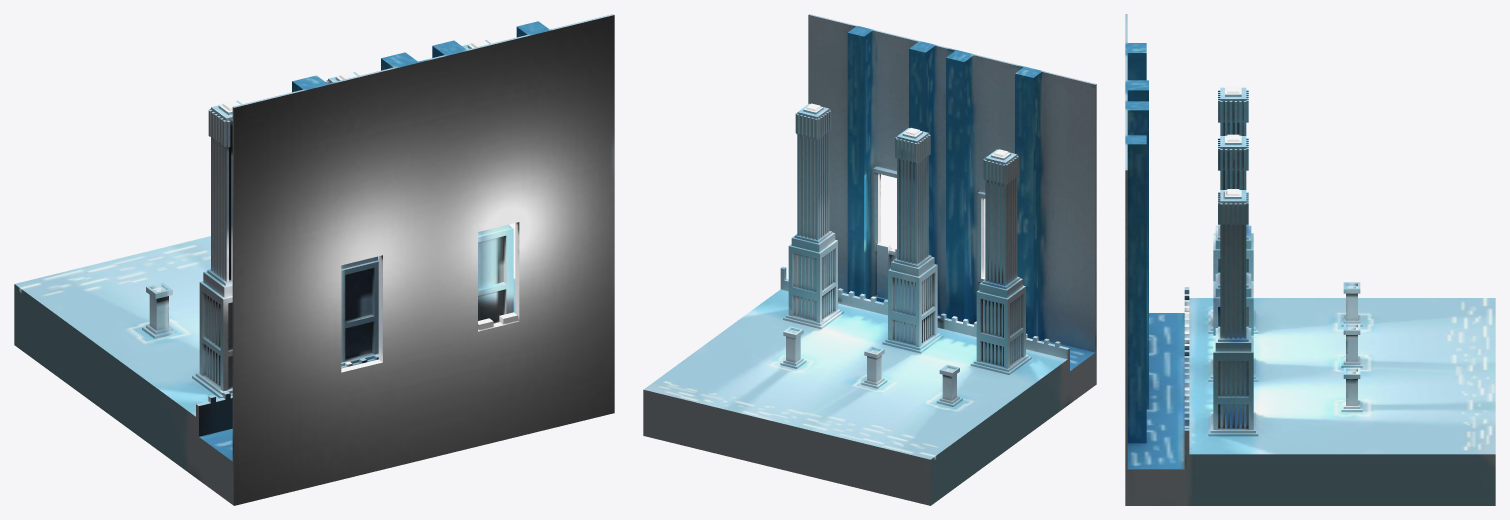
File: show_more_nfts_com.glb
The picture shows the model from 3 angles, left to right: view 1: azimuth 30°, elevation 25°; view 2: azimuth 150°, elevation 25°; view 3: azimuth 270°, elevation 25°; orthographic projection. The views are drawn at different scales.
Visible parts, largest first — view 1: more_nfts_voxel_final-7; view 2: more_nfts_voxel_final-7; view 3: more_nfts_voxel_final-7.
Part boxes in pixels (x1,y1,x2,y2): more_nfts_voxel_final-7: (14,14,614,505); more_nfts_voxel_final-7: (643,14,1096,505); more_nfts_voxel_final-7: (1125,14,1495,505).
Size of the model in its own units: 156 by 156 by 156.
Materials: 1 (1 with a texture image).
